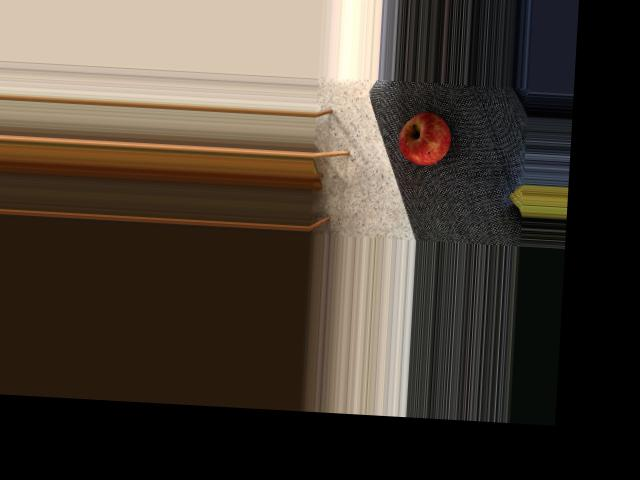apple: (394, 107, 457, 168)
